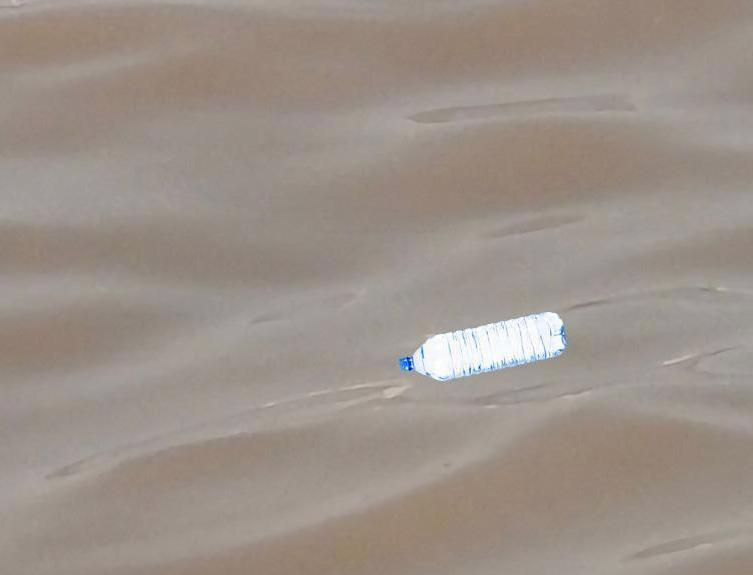Plastic: (397, 309, 566, 384)
